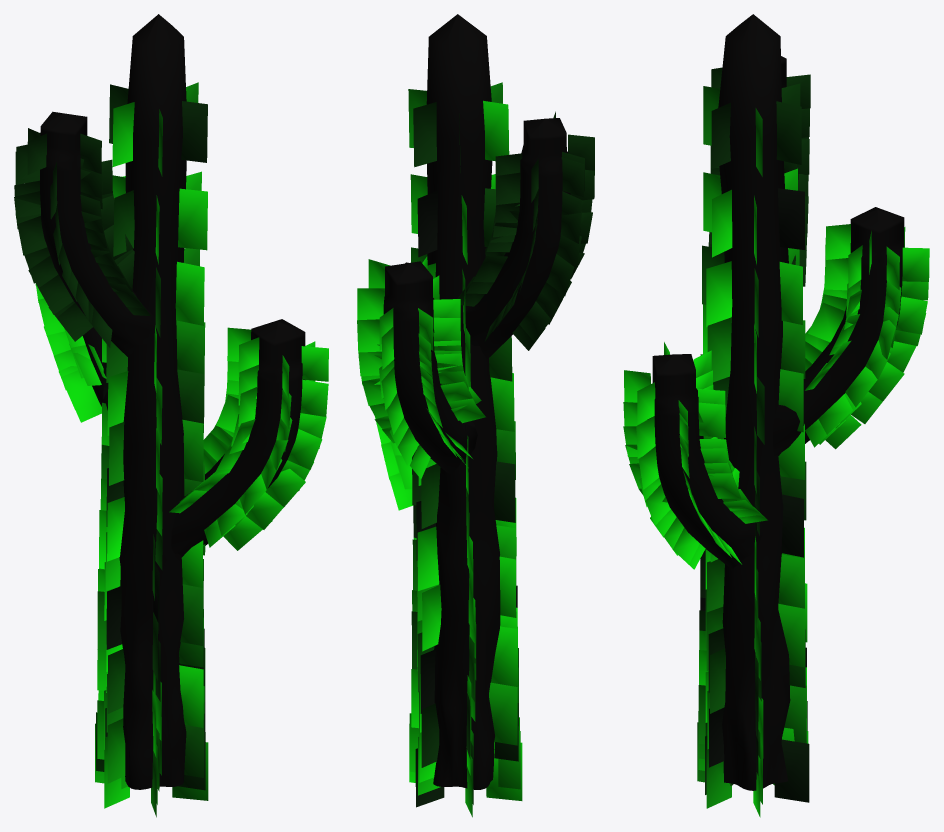
File: Cactus_1_6.fbx
3 renders of one model, left to right at view 1: azimuth 30°, elevation 25°; view 2: azimuth 150°, elevation 25°; view 3: azimuth 270°, elevation 25°, orthographic.
Parts seen in each view (by area): view 1: Cactus_1_6; view 2: Cactus_1_6; view 3: Cactus_1_6.
Boxes of the visible parts, x1,y1,x2,y2 form: Cactus_1_6: [14, 14, 328, 817]; Cactus_1_6: [357, 14, 594, 817]; Cactus_1_6: [623, 14, 929, 817].
Size of the model in its own units: 162 by 464 by 165.
